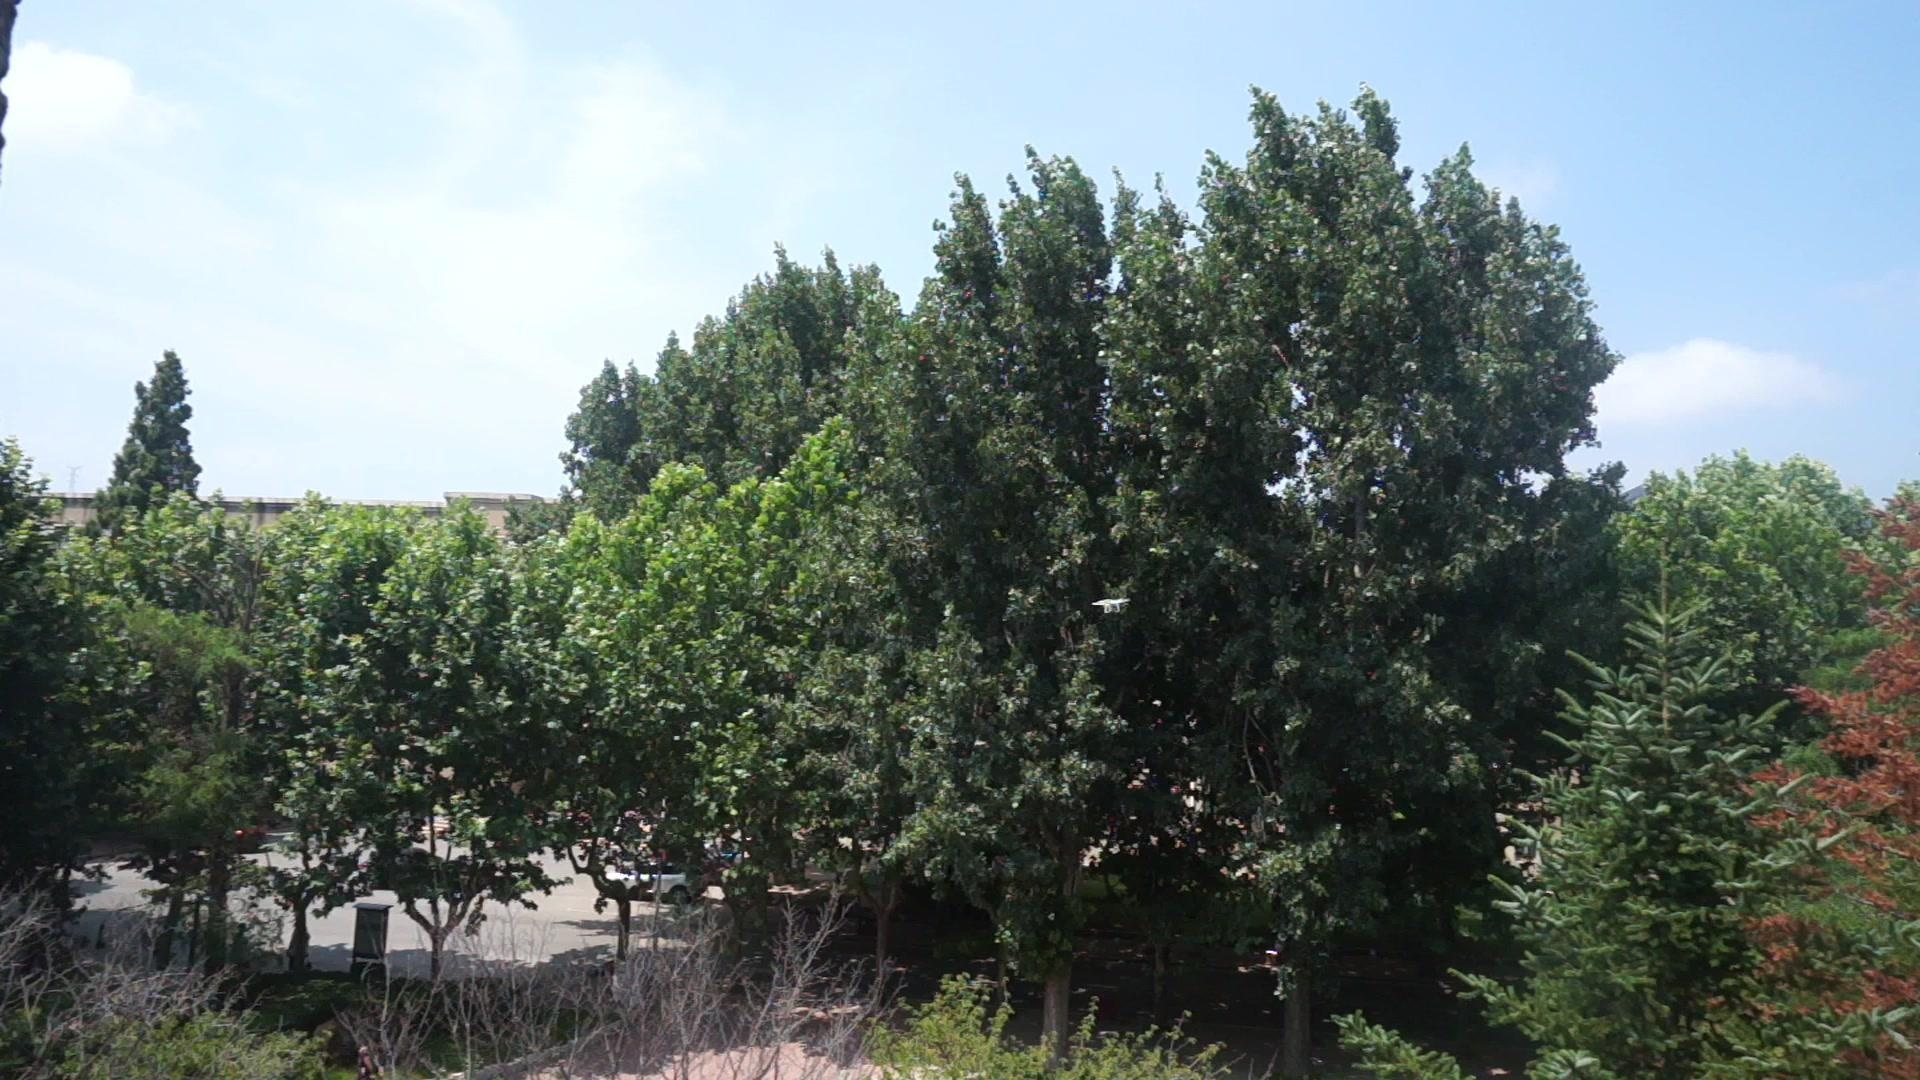UAV: (1091, 599, 1131, 615)
